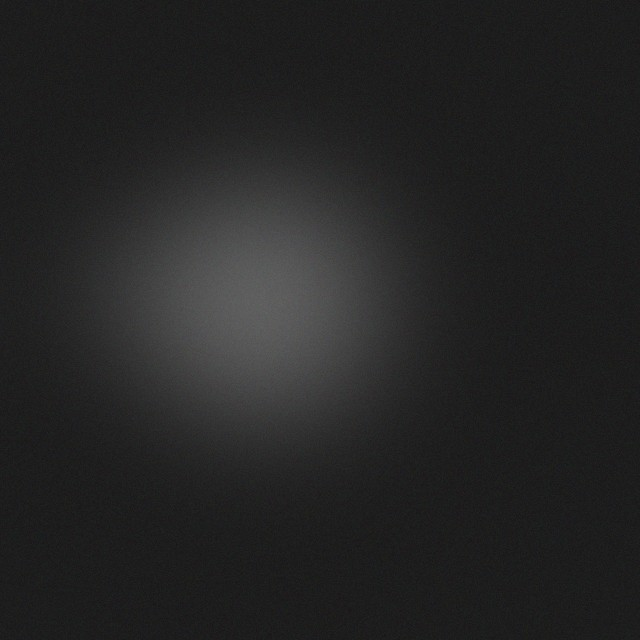smoke: (55, 186, 301, 432)
